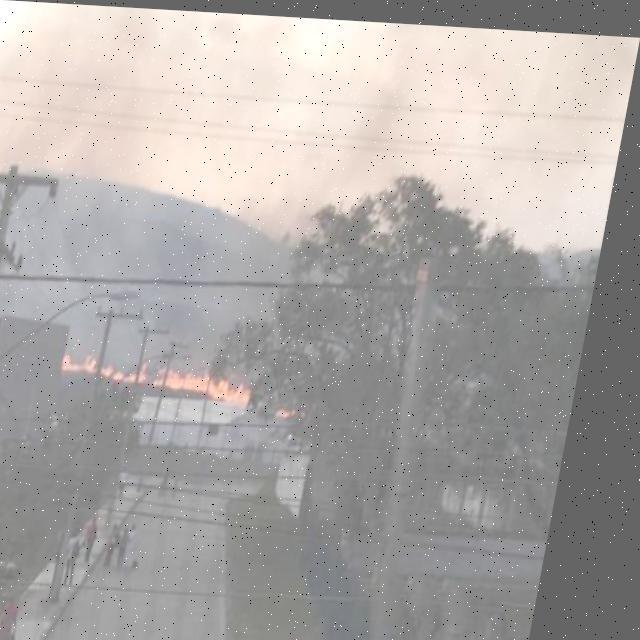Fire: (66, 336, 326, 420)
